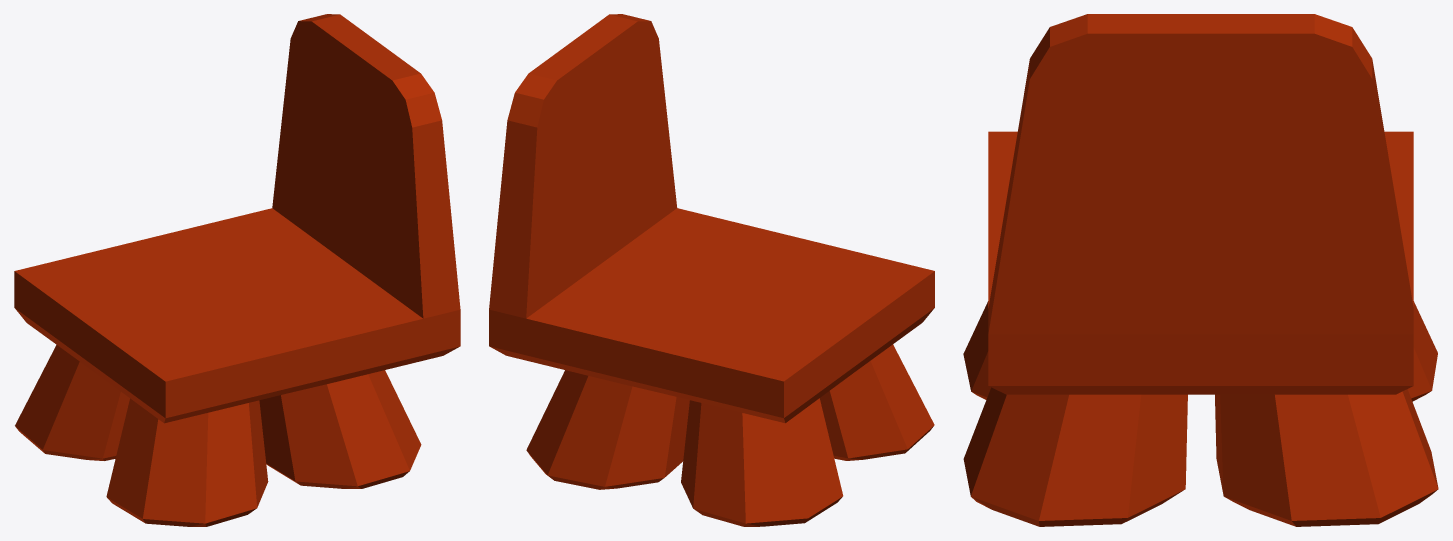
Rendered from chair.glb.
The picture shows the model from 3 angles, left to right: view 1: azimuth 30°, elevation 25°; view 2: azimuth 150°, elevation 25°; view 3: azimuth 270°, elevation 25°; orthographic projection. The views are drawn at different scales.
Parts seen in each view (by area): view 1: Plane.001; view 2: Plane.001; view 3: Plane.001.
Boxes of the visible parts, x1,y1,x2,y2 form: Plane.001: (14, 14, 460, 526); Plane.001: (489, 14, 934, 526); Plane.001: (963, 14, 1438, 526).
Bounding box in the file's own units: 2.68 × 2.97 × 2.52.
